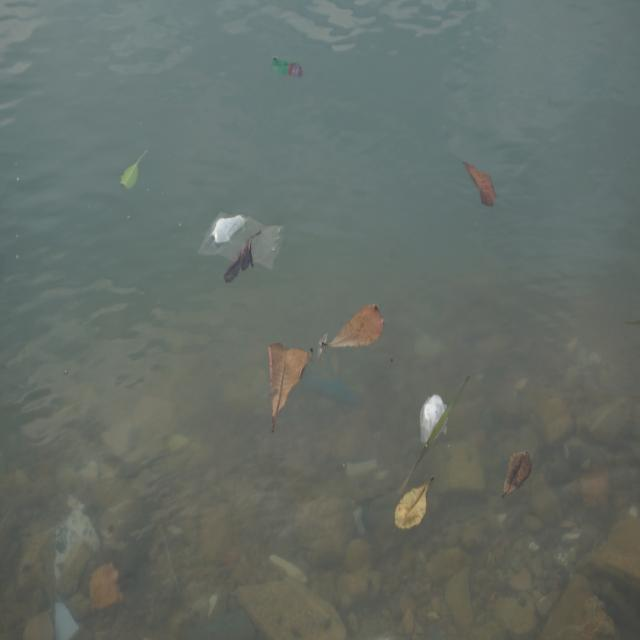Bungkus Makanan: (269, 51, 306, 86)
Kantong Plastik: (195, 206, 284, 284), (416, 385, 451, 451)
